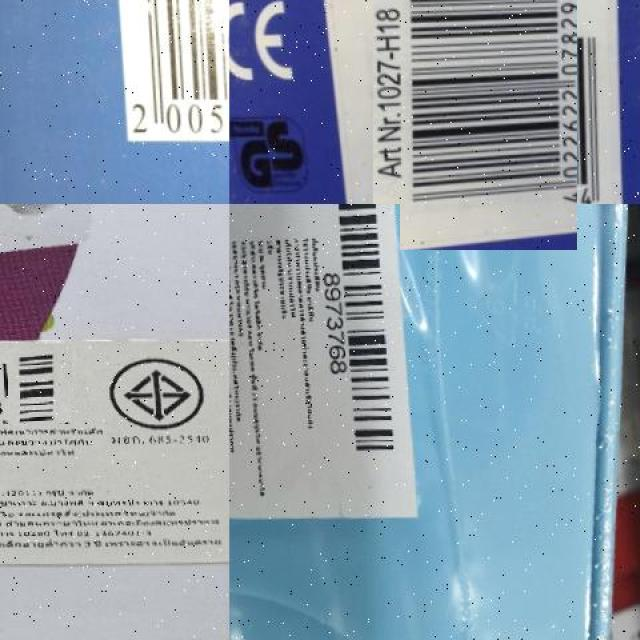Barcode: (350, 0, 600, 227), (317, 204, 400, 479), (109, 0, 229, 145), (4, 348, 77, 420)
